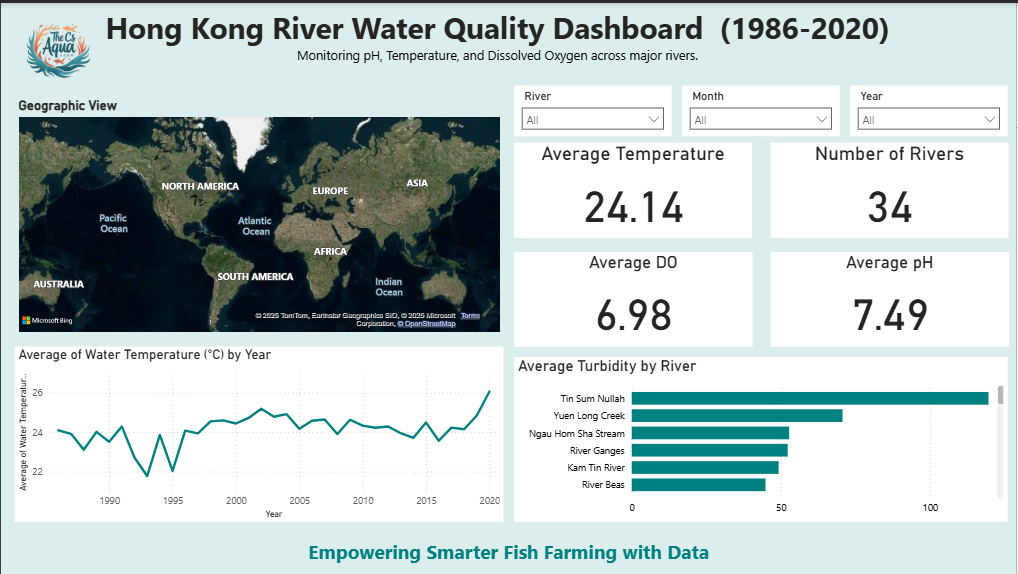

This screenshot's page, from the dashboard's own definition file:
{"tool":"powerbi","page":{"name":"Page 1","canvas":[1280,720],"ordinal":0},"visuals":[{"type":"card","title":"Average pH","fields":{"Values":["Avg(Water_quality_dataset.pH)"]},"box":[969.5,313.7,300.5,119.1],"z":0},{"type":"card","title":"Average DO","fields":{"Values":["Avg(Water_quality_dataset.Dissolved Oxygen (mg/L))"]},"box":[646.3,313.7,300.5,119.1],"z":1000},{"type":"card","title":"Average Temperature","fields":{"Values":["Avg(Water_quality_dataset.Water Temperature (°C))"]},"box":[646.3,175.7,300,120],"z":2000},{"type":"card","title":"Number of Rivers","fields":{"Values":["Count(Water_quality_dataset.River)"]},"box":[969.5,175.7,300,120],"z":3000},{"type":"lineChart","fields":{"Category":["Water_quality_dataset.Dates.Variation.Date Hierarchy.Year"],"Y":["Avg(Water_quality_dataset.Water Temperature (°C))"]},"box":[17,432.8,616.1,221.1],"z":4000},{"type":"slicer","fields":{"Values":["Water_quality_dataset.River"]},"box":[646.3,103.9,198.4,64.3],"z":5000},{"type":"slicer","fields":{"Values":["Water_quality_dataset.Dates.Variation.Date Hierarchy.Year"]},"box":[1069.6,103.9,198.4,64.3],"z":6000},{"type":"slicer","fields":{"Values":["Water_quality_dataset.Dates.Variation.Date Hierarchy.Month"]},"box":[858,103.9,198.4,64.3],"z":7000},{"type":"filledMap","title":"Geographic View","fields":{"Category":["Water_quality_dataset.River"]},"box":[17,119.1,616.1,300.5],"z":8000},{"type":"barChart","title":"Average Turbidity by River","fields":{"Category":["Water_quality_dataset.River"],"Y":["Avg(Water_quality_dataset.Turbidity (NTU))"]},"box":[646.3,446,621.7,207.9],"z":9000},{"type":"textbox","box":[232.4,669,814.5,51],"z":10000},{"type":"image","box":[17,0,109.6,119.1],"z":11000},{"type":"textbox","box":[54.8,0,1141.4,86.9],"z":12000}]}

Visuals, with their boxes in screenshot pixels (x1, y1, x2, y2), scaled from the page's 1280x720 canvas onto the 1018x574 screenshot:
"Average pH" card: <bbox>771, 250, 1010, 345</bbox>
"Average DO" card: <bbox>514, 250, 753, 345</bbox>
"Average Temperature" card: <bbox>514, 140, 753, 236</bbox>
"Number of Rivers" card: <bbox>771, 140, 1010, 236</bbox>
lineChart - Water_quality_dataset.Dates.Variation.Date Hierarchy.Year x Avg(Water_quality_dataset.Water Temperature (°C)): <bbox>14, 345, 504, 521</bbox>
slicer - Water_quality_dataset.River: <bbox>514, 83, 672, 134</bbox>
slicer - Water_quality_dataset.Dates.Variation.Date Hierarchy.Year: <bbox>851, 83, 1008, 134</bbox>
slicer - Water_quality_dataset.Dates.Variation.Date Hierarchy.Month: <bbox>682, 83, 840, 134</bbox>
"Geographic View" filledMap: <bbox>14, 95, 504, 335</bbox>
"Average Turbidity by River" barChart: <bbox>514, 356, 1008, 521</bbox>
textbox: <bbox>185, 533, 833, 573</bbox>
image: <bbox>14, 0, 101, 95</bbox>
textbox: <bbox>44, 0, 951, 69</bbox>
